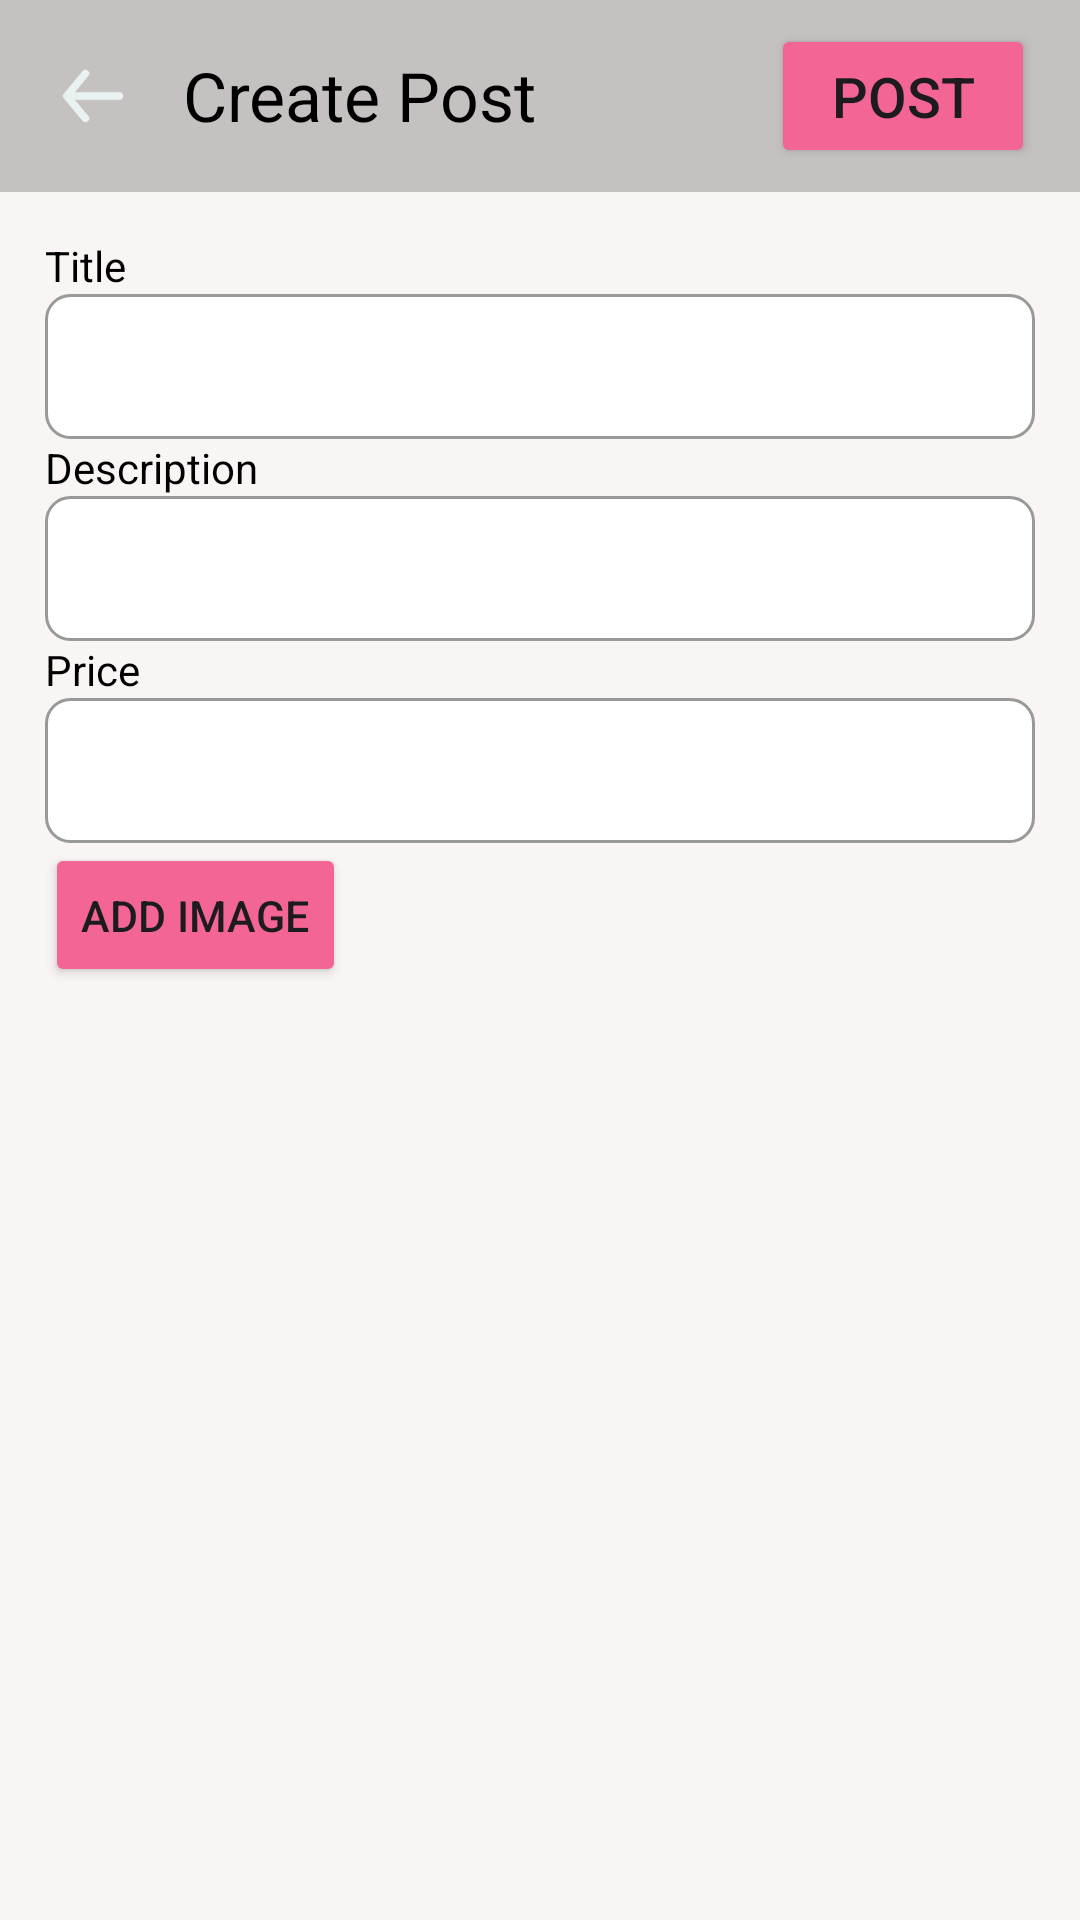

Where icons sit on this 1080 × 1920 app screen, as (x1, y1, x2, y2):
arrow left: (63, 70, 123, 122)
